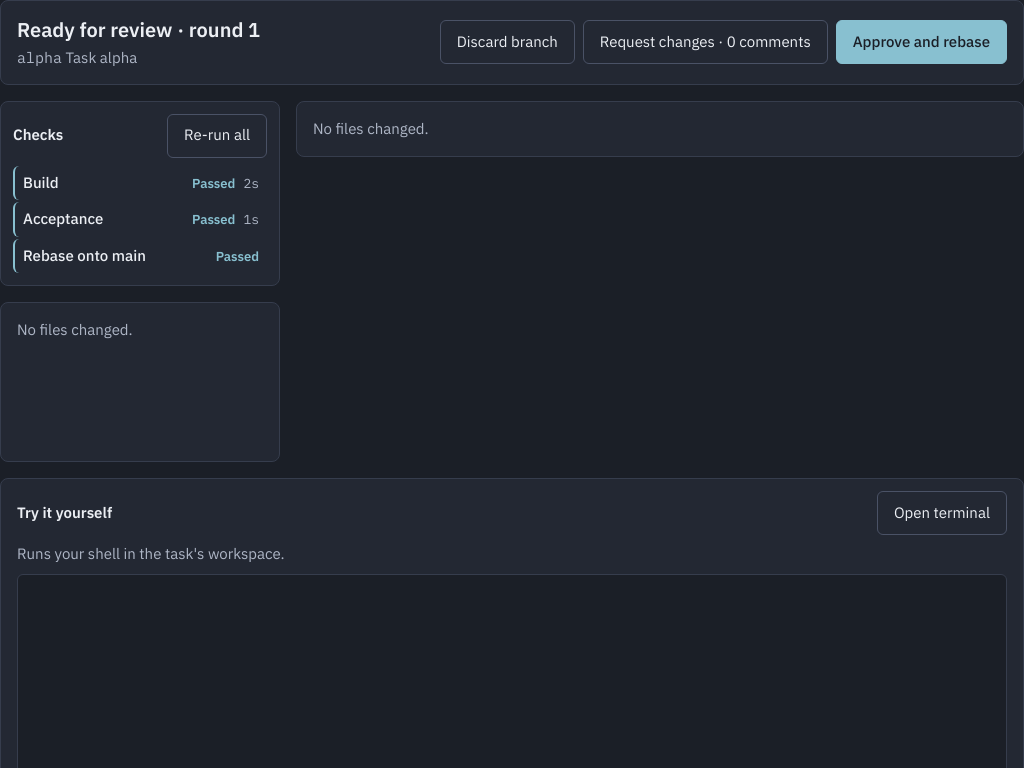
Test case: Test and decide screen › re-runs every check on one click and leaves no decision open while they run
Click the button "Re-run all": click(217, 136) x1=167 y1=114 x2=267 y2=158
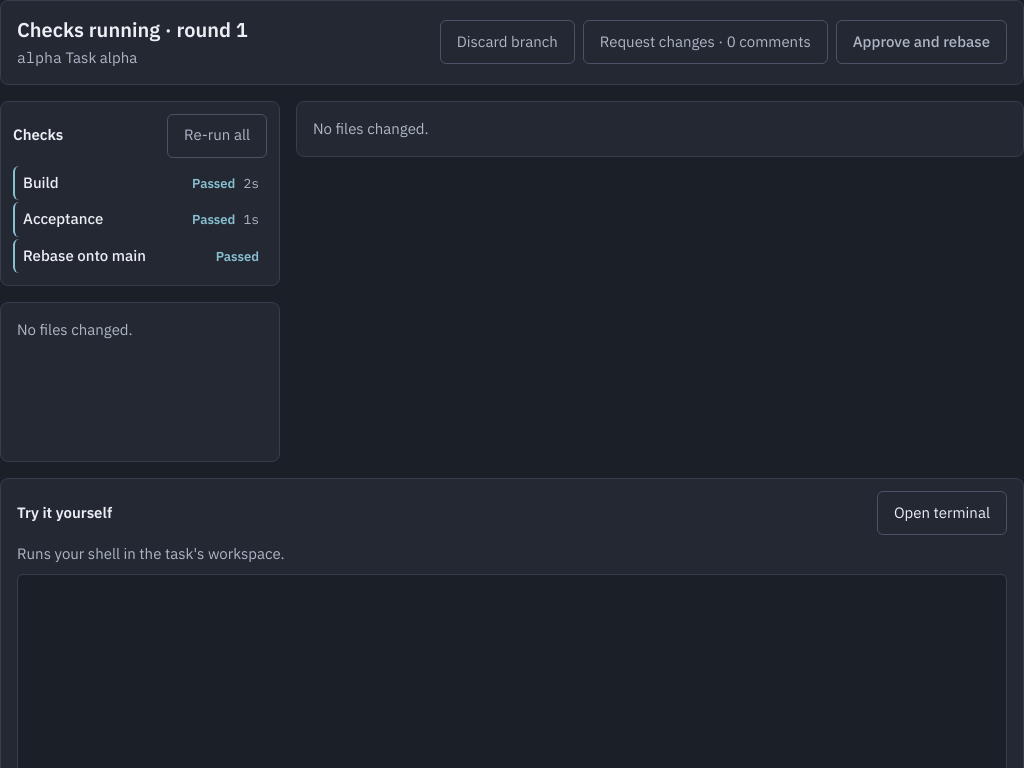
Result: the button "Re-run all" is disabled at x1=167 y1=114 x2=267 y2=158
Result: the button "Discard branch" is disabled at x1=440 y1=20 x2=575 y2=64
Result: the button "Approve and rebase" is disabled at x1=836 y1=20 x2=1007 y2=64
